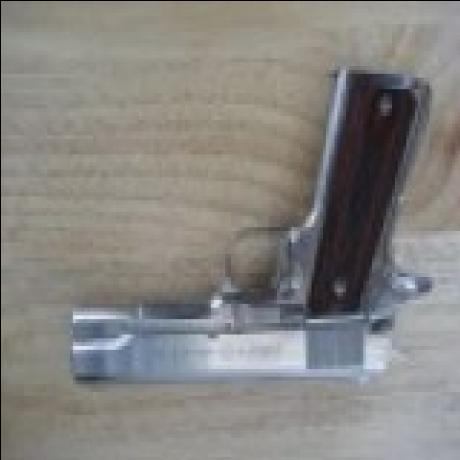weapon: (71, 67, 436, 382)
